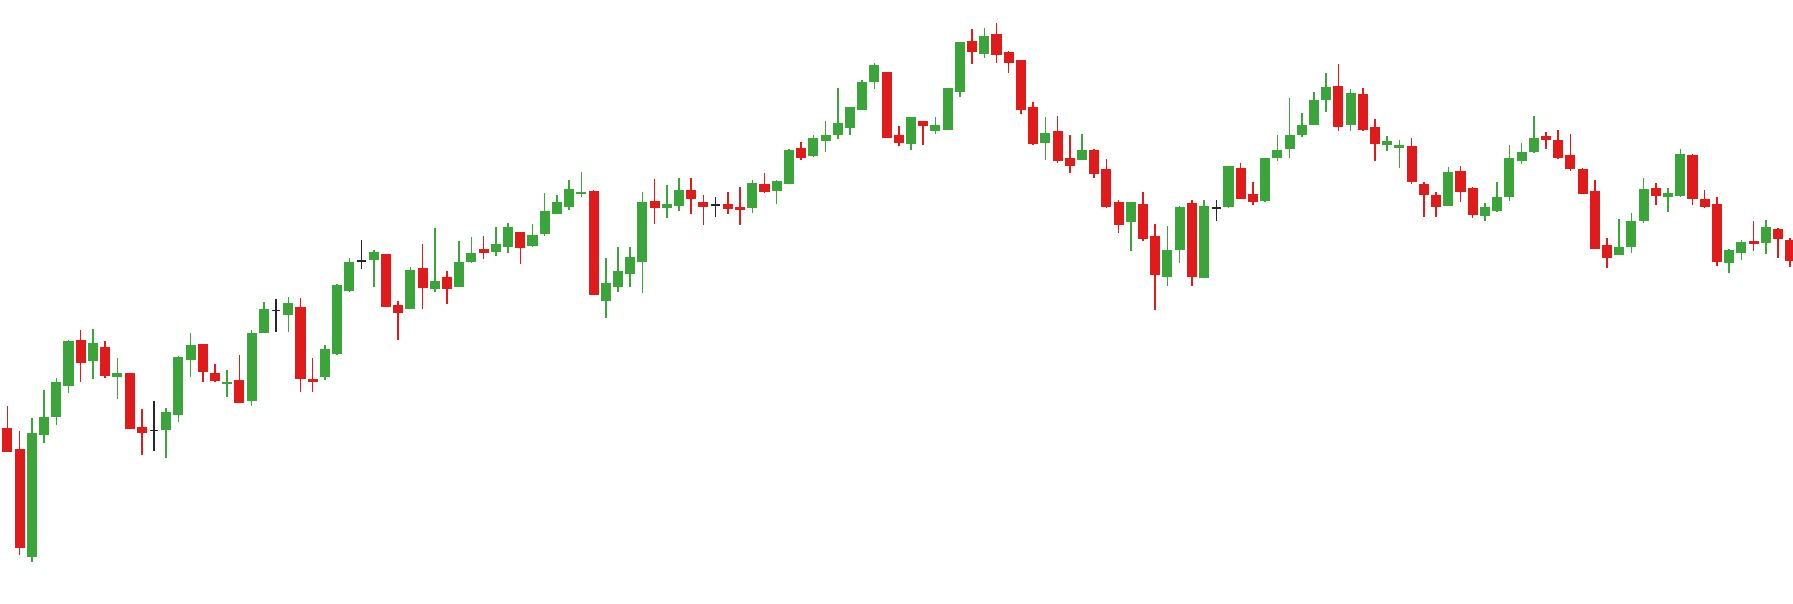buy: (443, 213, 613, 327)
